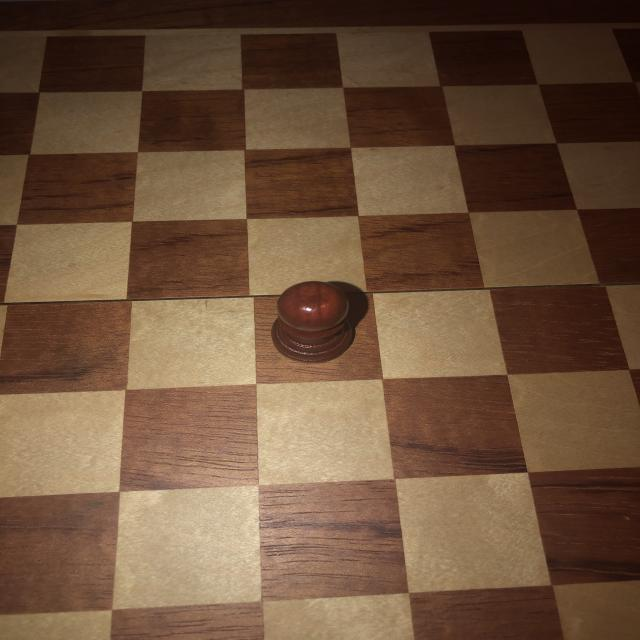black_pawn: (269, 278, 354, 367)
